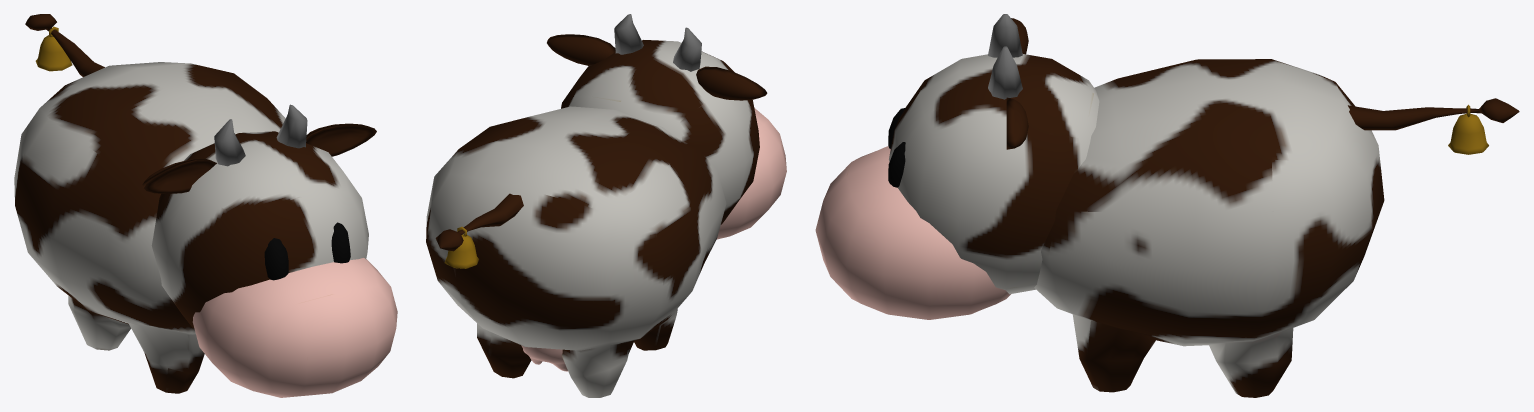
File: cowsmooth.fbx
The picture shows the model from 3 angles, left to right: view 1: azimuth 30°, elevation 25°; view 2: azimuth 150°, elevation 25°; view 3: azimuth 270°, elevation 25°; orthographic projection. The views are drawn at different scales.
Parts seen in each view (by area): view 1: Cube.005; view 2: Cube.005; view 3: Cube.005.
Boxes of the visible parts, left/top/right/bottom form: Cube.005: left=14, top=14, right=397, bottom=397; Cube.005: left=426, top=14, right=786, bottom=397; Cube.005: left=815, top=14, right=1519, bottom=397.
Bounding box in the file's own units: 159 × 180 × 339.
